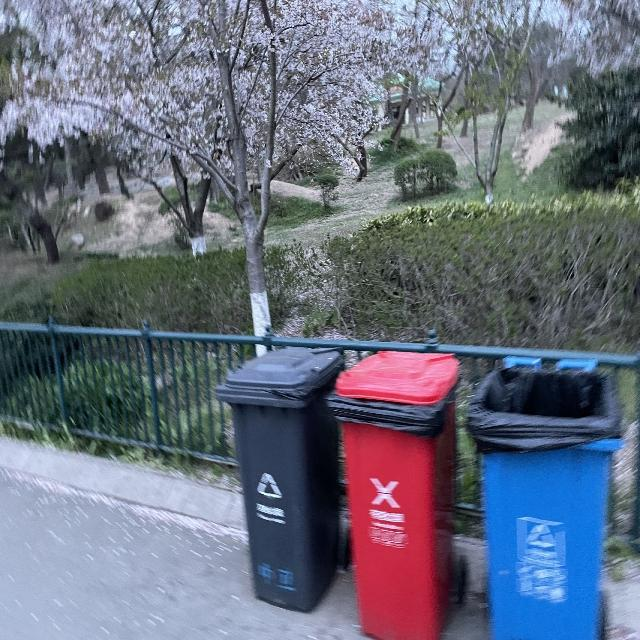garbage_bin: (466, 354, 620, 639), (329, 347, 461, 639), (212, 347, 344, 613)
